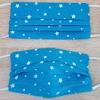cloth_mask: (8, 47, 100, 100), (7, 1, 94, 42)
